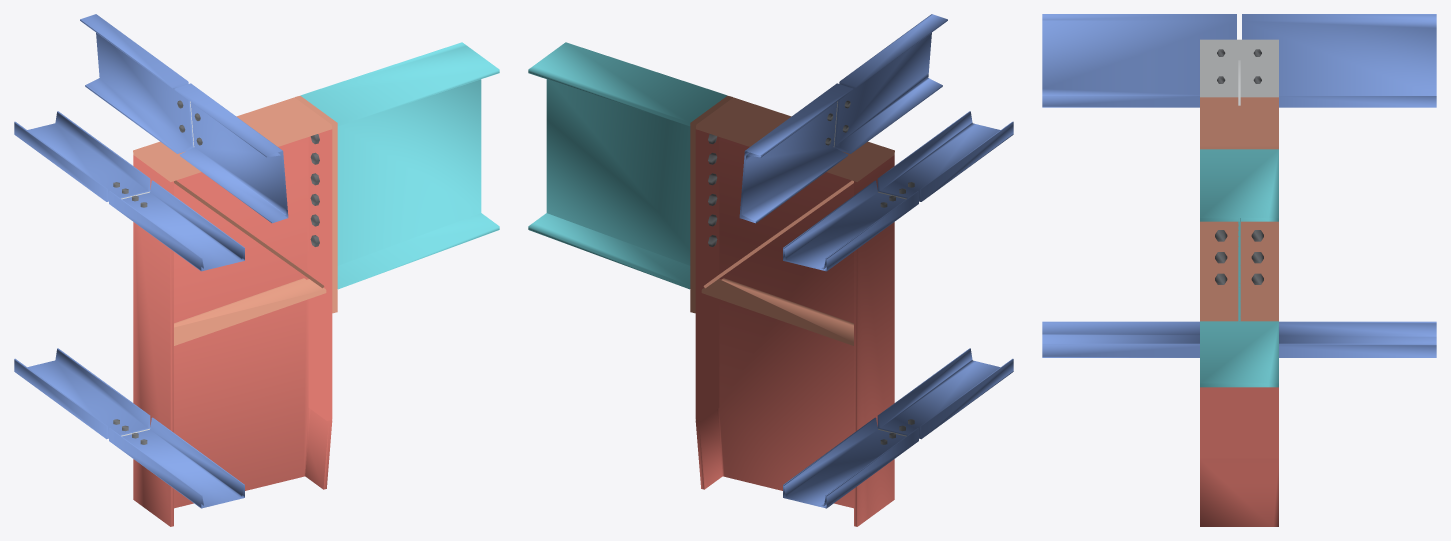
Rendered from knee.glb.
3 renders of one model, left to right at view 1: azimuth 30°, elevation 25°; view 2: azimuth 150°, elevation 25°; view 3: azimuth 270°, elevation 25°, orthographic. The views are drawn at different scales.
Parts seen in each view (by area): view 1: m2, m4, m5, plate, bolt; view 2: m2, m4, m5, plate, bolt; view 3: m4, plate, m5, m2, cleat, bolt.
Boxes of the visible parts, x1,y1,x2,y2 form: m2: (133,129,332,526); m4: (14,14,288,508); m5: (300,42,499,289); plate: (133,95,337,345); bolt: (113,100,319,444); m2: (695,129,894,526); m4: (739,14,1013,508); m5: (528,42,727,289); plate: (690,95,894,345); bolt: (708,100,914,444); m4: (1042,14,1436,357); plate: (1200,97,1278,321); m5: (1200,149,1278,387); m2: (1200,387,1278,526); cleat: (1200,39,1278,105); bolt: (1215,49,1263,284).
Bounding box in the file's own units: 1.73 × 1.87 × 1.5.
